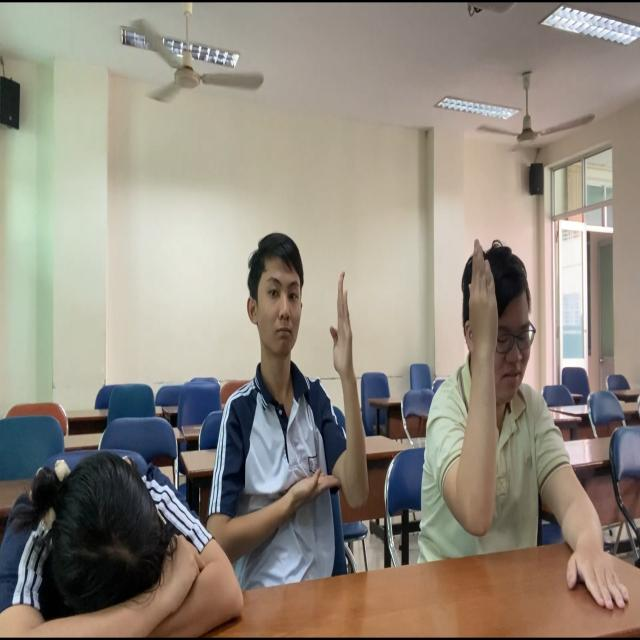raise_hand: (425, 219, 576, 557)
sleep: (1, 398, 291, 640)
